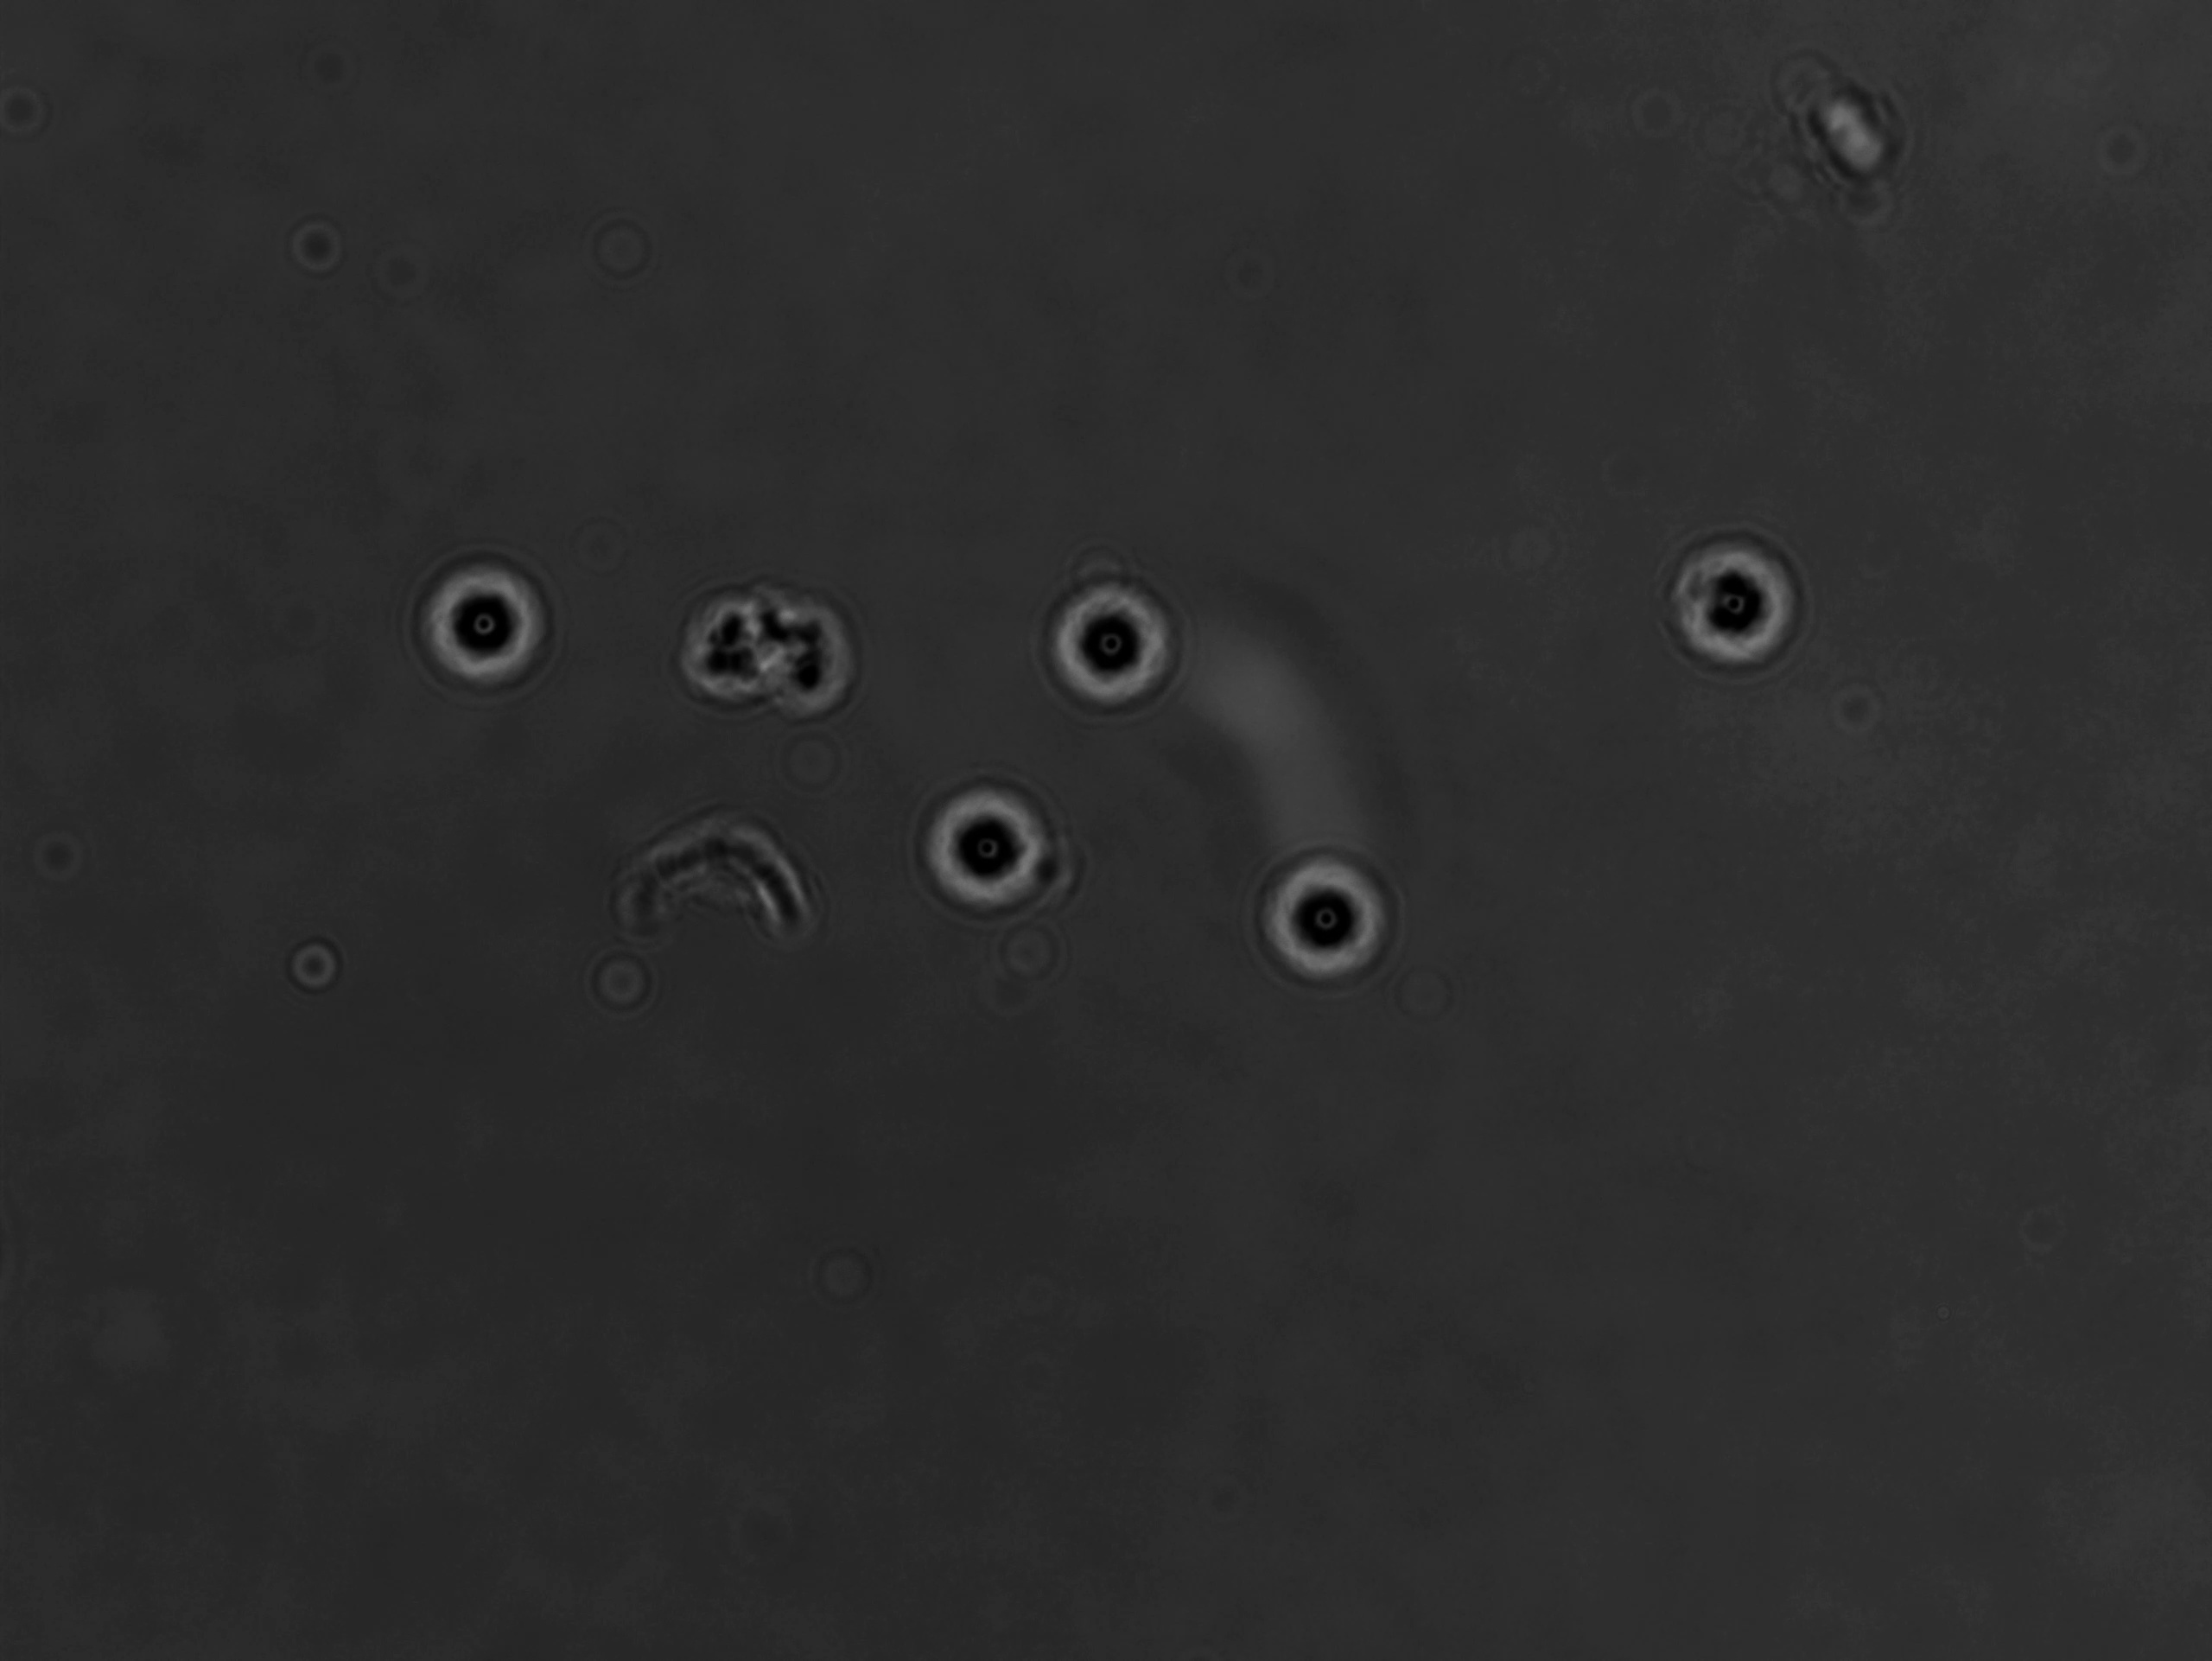depth:-20: (1232, 825, 1427, 1015), (1031, 544, 1197, 722), (1647, 523, 1819, 686), (403, 539, 562, 707), (909, 771, 1080, 925)
